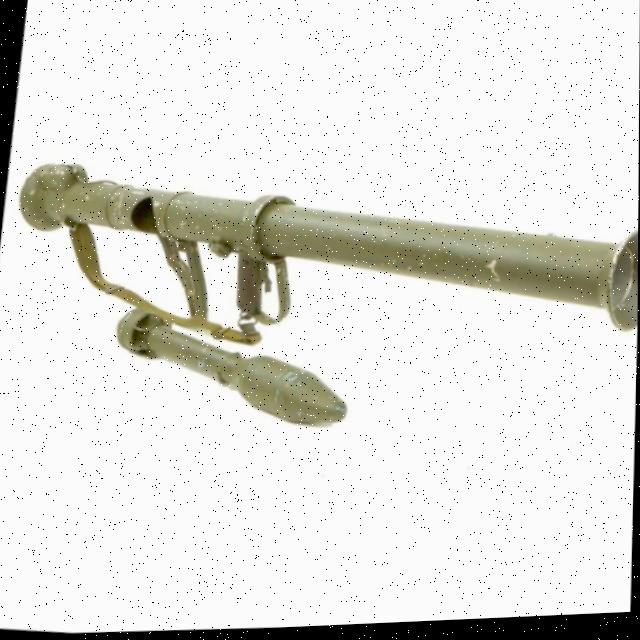rocket: (0, 140, 639, 457)
